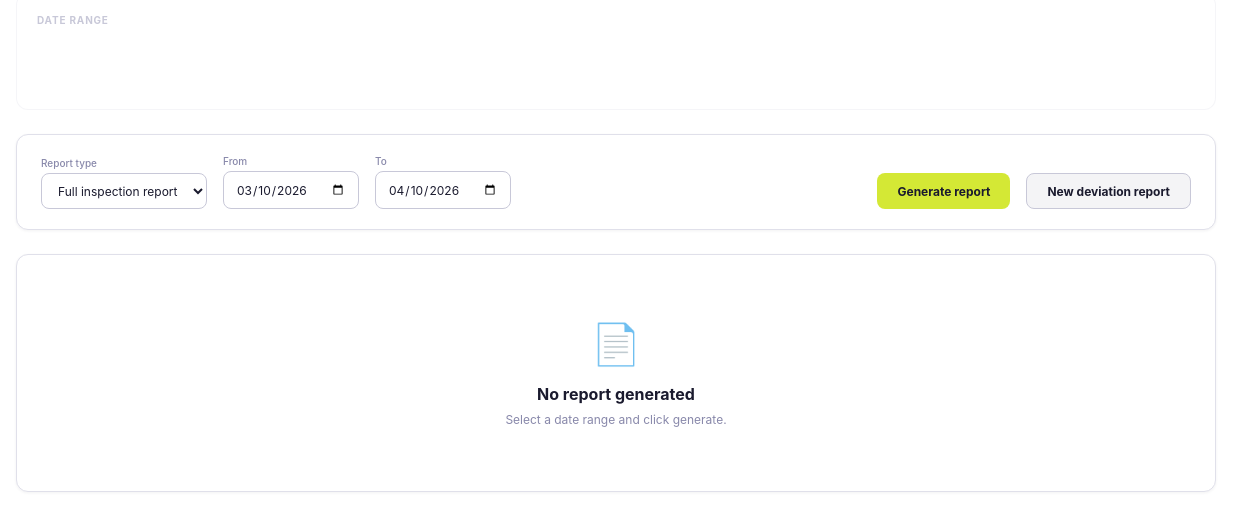
Test case: ReportsView › loadReport — UI states › prefers error.response.data.detail over error.message
The width and height of the screenshot is (1233, 509).
Click the button with class "btn-generate": (944, 191) left=878, top=173, right=1010, bottom=209
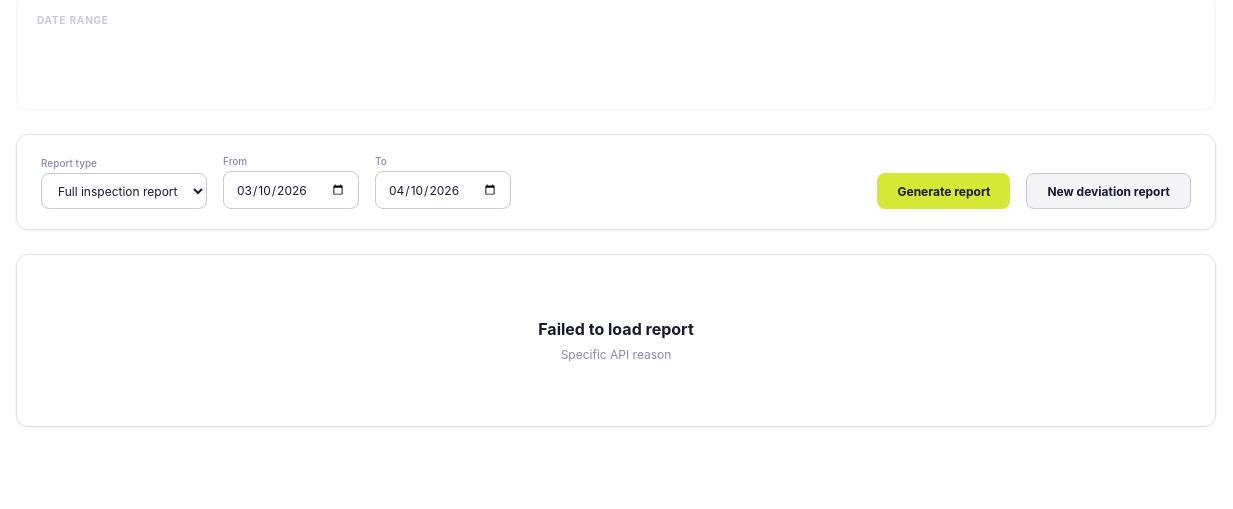
Expected: the text "Specific API reason" is shown, left=561, top=347, right=671, bottom=362
